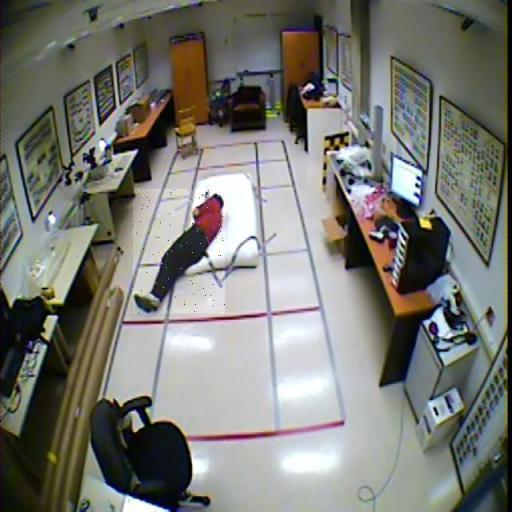Fall: (133, 189, 225, 314)
